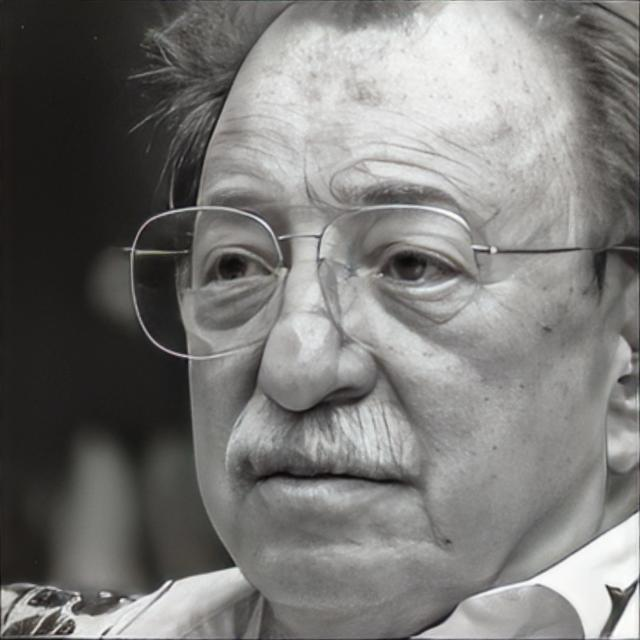neutral: (178, 0, 604, 615)
